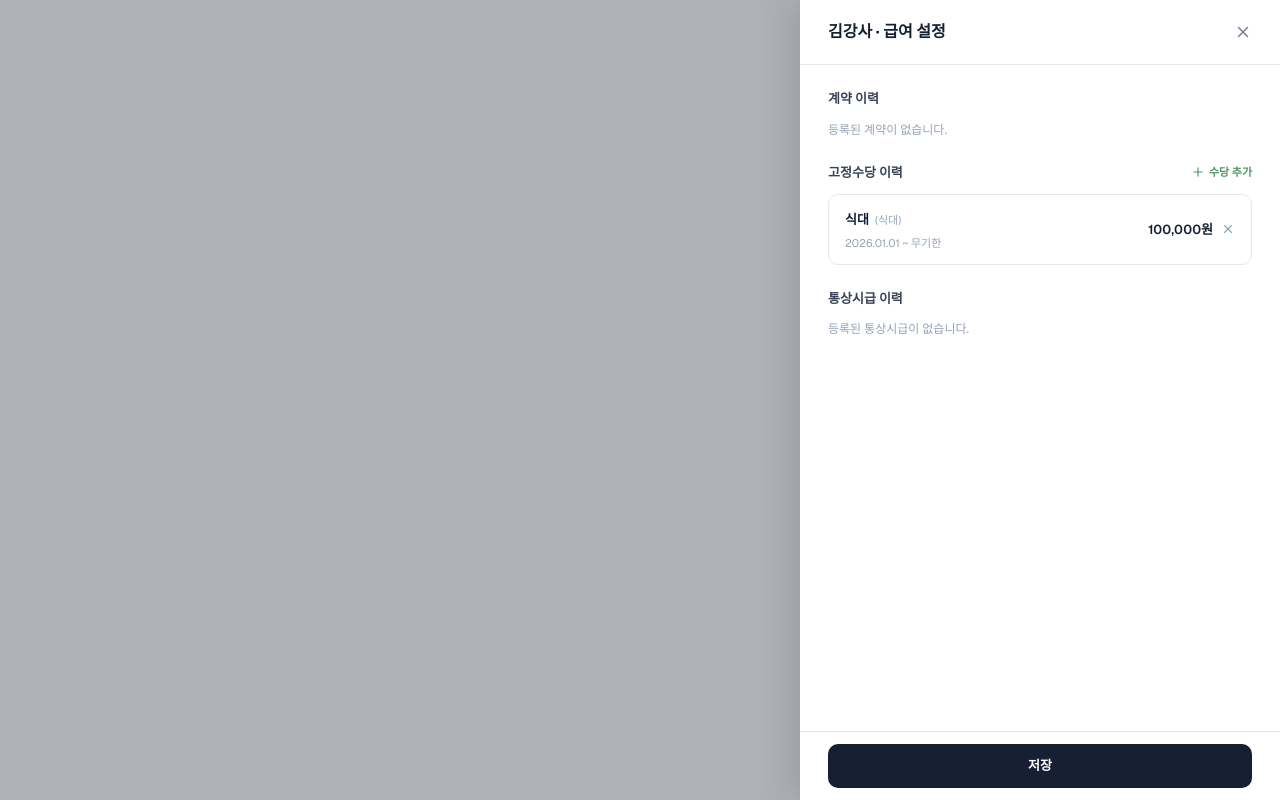
PayrollCompensationDetail › 삭제 버튼을 클릭하면 목록에서 수당을 제거한다
Click the button named "식대 삭제" at [1228, 229], box [1221,222,1235,236]
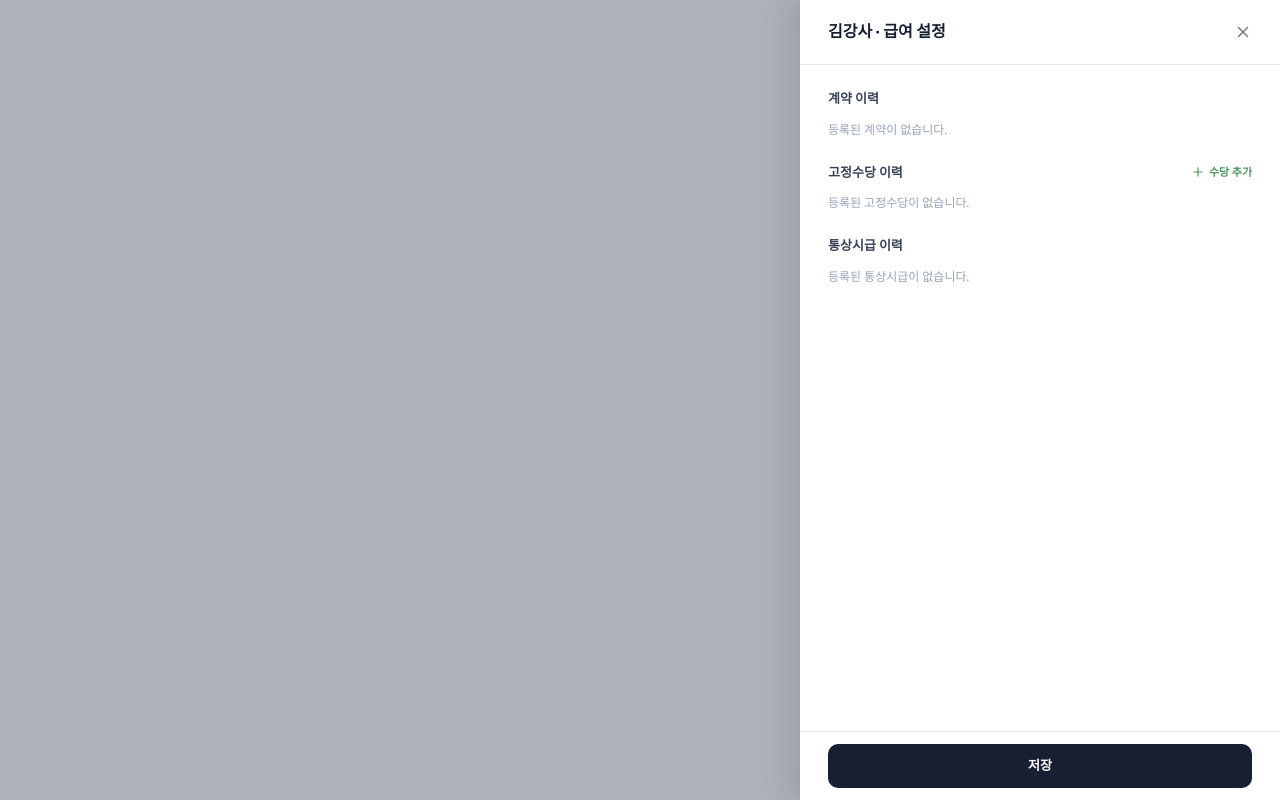
Result: the text "식대" is gone
